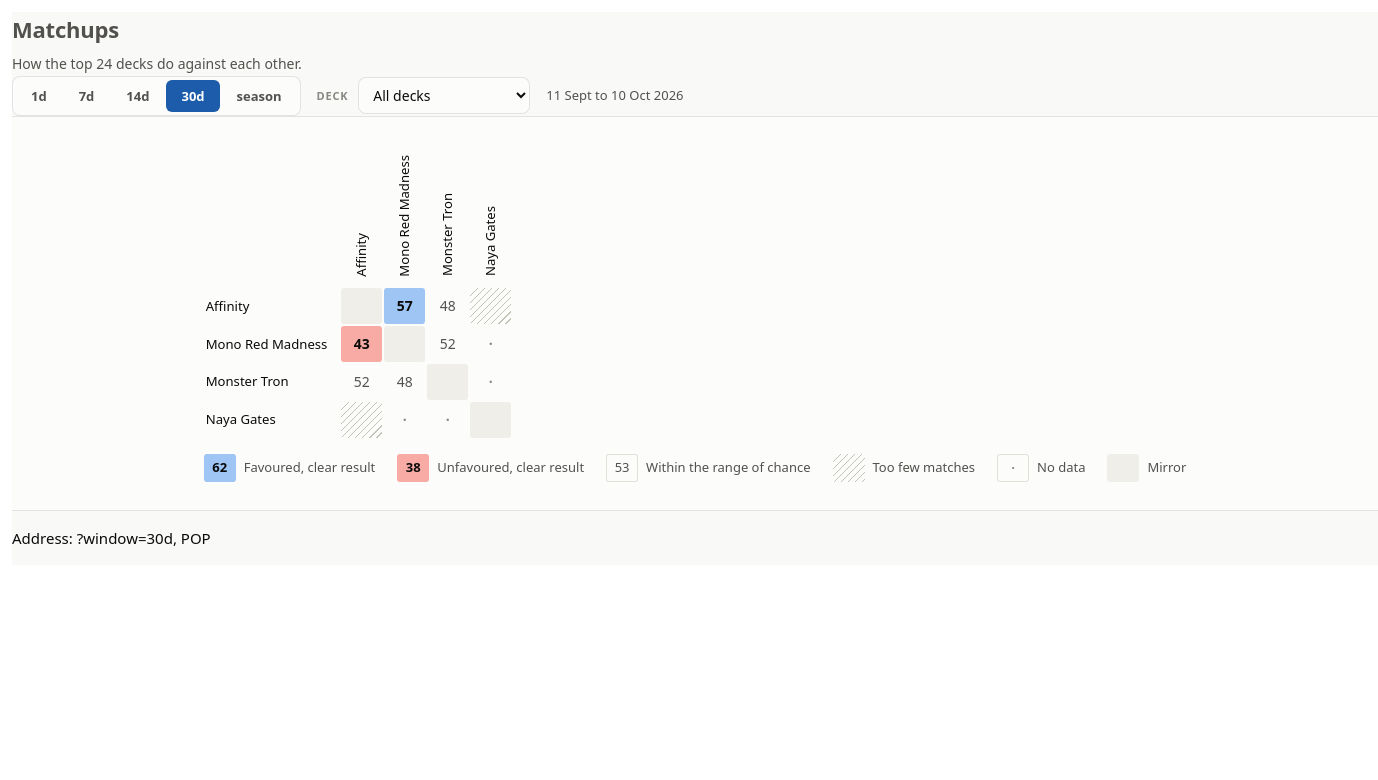
Test case: MatchupsPage › writes a chosen deck in place of the history entry and reveals it, and All decks removes it
Expected: the table is shown, [204, 145, 513, 440]
Select "Naya Gates" in the dropdown labelled "Deck" at (444, 96), box [358, 77, 530, 114]
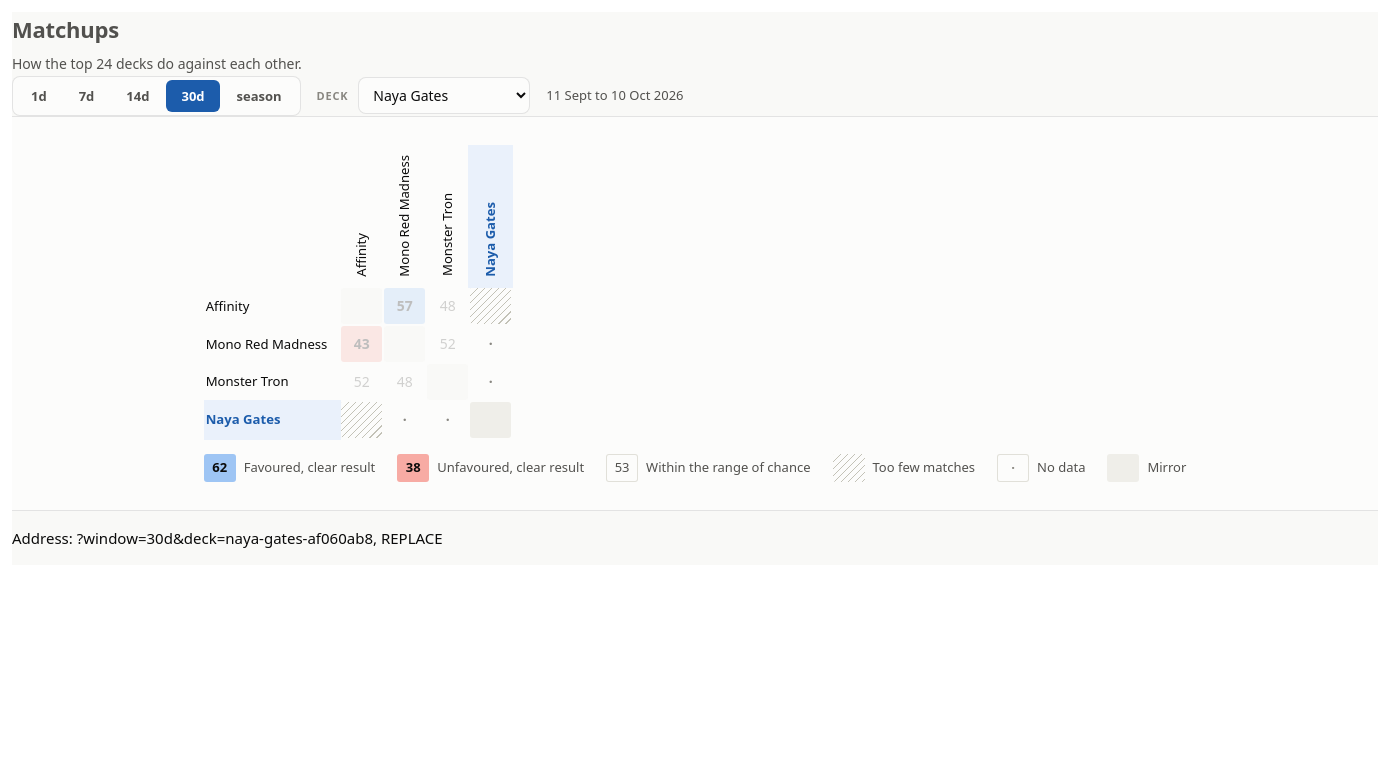
Now the text "Address: ?window=30d&deck=naya-gates-af060ab8, REPLACE" is shown, box [12, 528, 443, 548]
Select "Monster Tron" in the dropdown labelled "Deck" at (444, 96), box [358, 77, 530, 114]
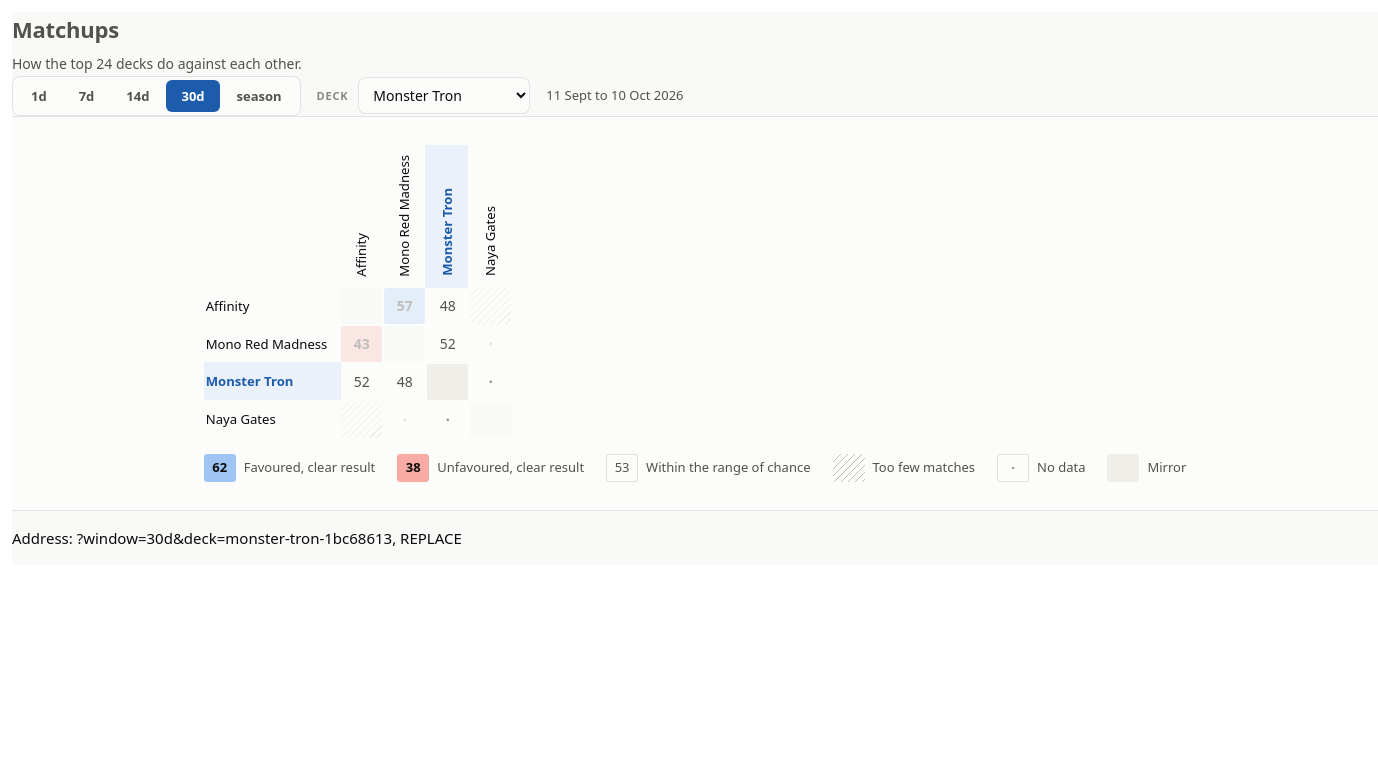
Select "All decks" in the dropdown labelled "Deck" at (444, 96), box [358, 77, 530, 114]
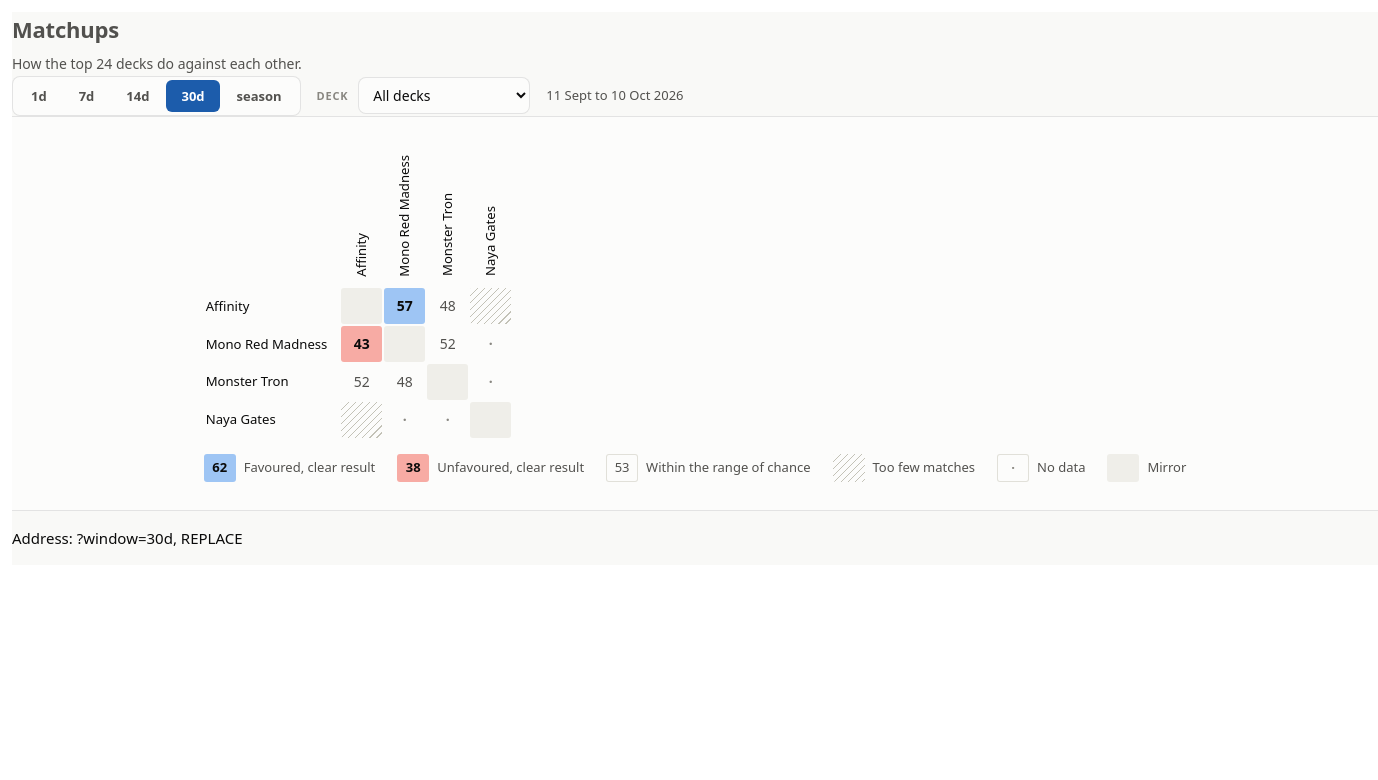
Now the text "Address: ?window=30d, REPLACE" is shown, box [12, 528, 242, 548]
